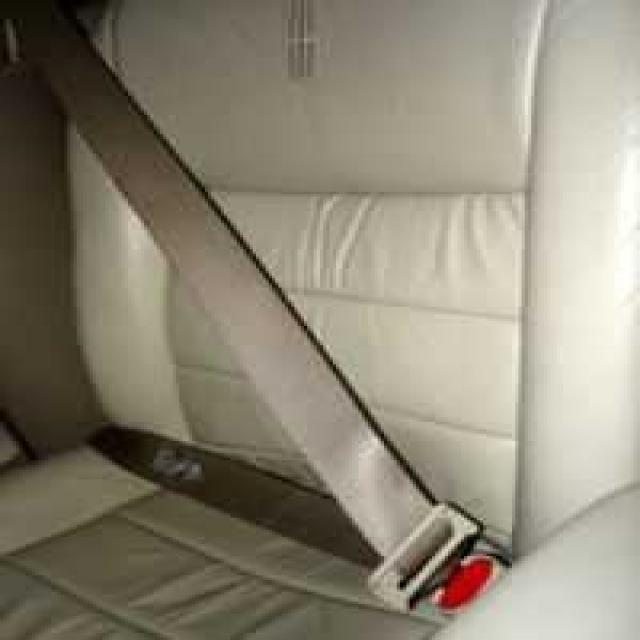seatbelt: (64, 31, 538, 602)
